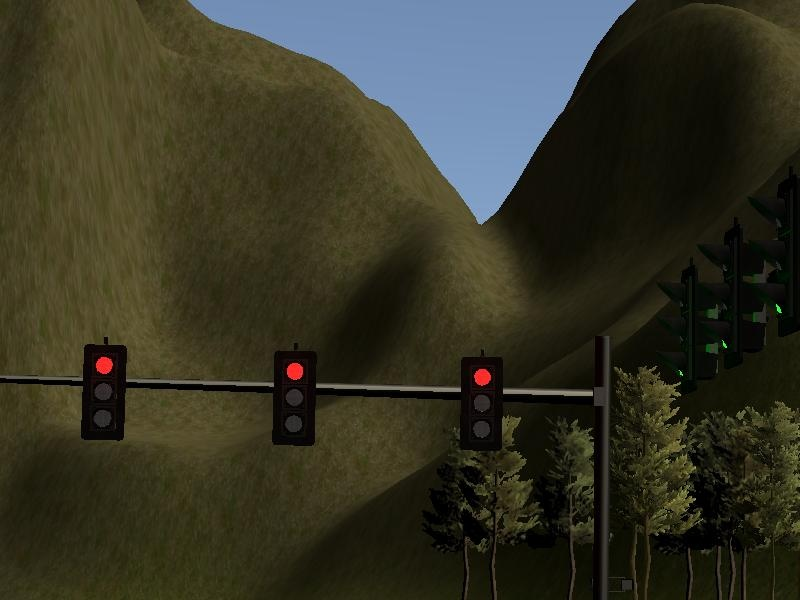RED: (80, 343, 128, 438), (274, 349, 317, 442), (460, 353, 503, 446)
